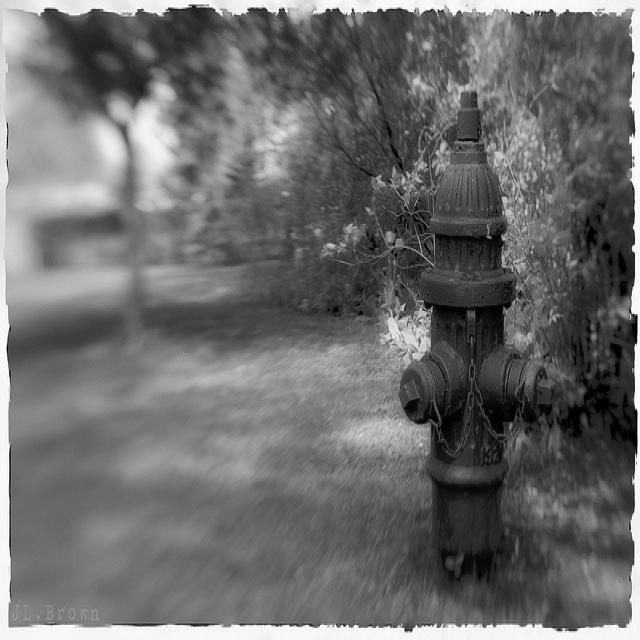fire_hydrant: (400, 87, 555, 595)
